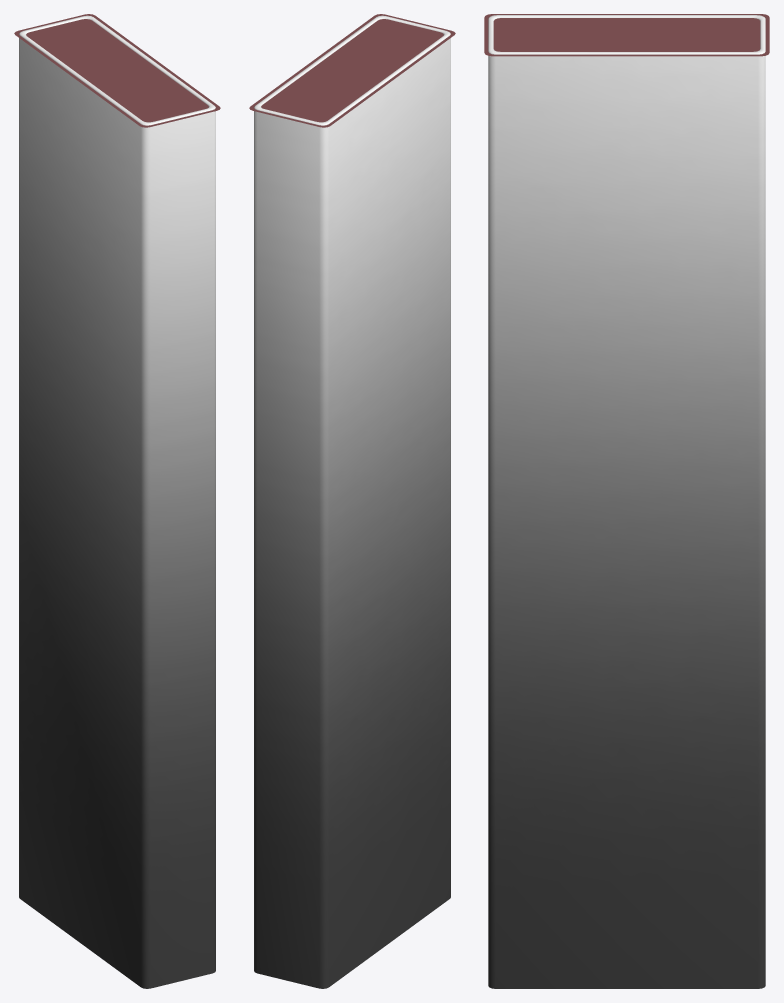
Rendered from Block_3D_3.fbx.
3 views of the same model, side by side, from view 1: azimuth 30°, elevation 25°; view 2: azimuth 150°, elevation 25°; view 3: azimuth 270°, elevation 25° (orthographic). The views are drawn at different scales.
Visible parts, largest first — view 1: Block_3D_3, solid, outline; view 2: Block_3D_3, solid, outline; view 3: Block_3D_3, solid, outline.
Part boxes in pixels (<box>): Block_3D_3: <box>19,15,215,988</box>; solid: <box>26,19,208,122</box>; outline: <box>14,14,220,127</box>; Block_3D_3: <box>254,15,450,988</box>; solid: <box>261,19,443,122</box>; outline: <box>249,14,455,127</box>; Block_3D_3: <box>488,15,765,988</box>; solid: <box>493,18,760,51</box>; outline: <box>484,14,769,56</box>.
Size of the model in its own units: 293 by 3022 by 836.
